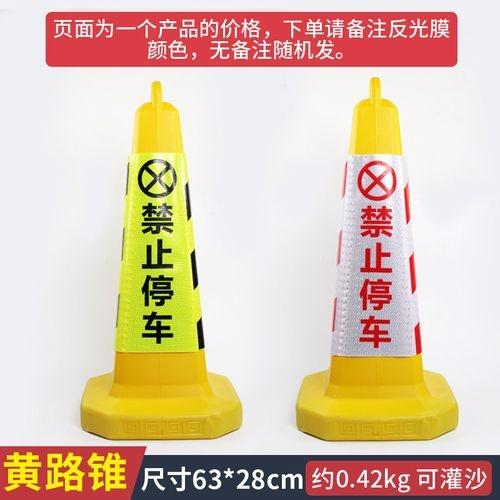cone_barrel: (76, 84, 238, 435), (296, 87, 459, 432)
